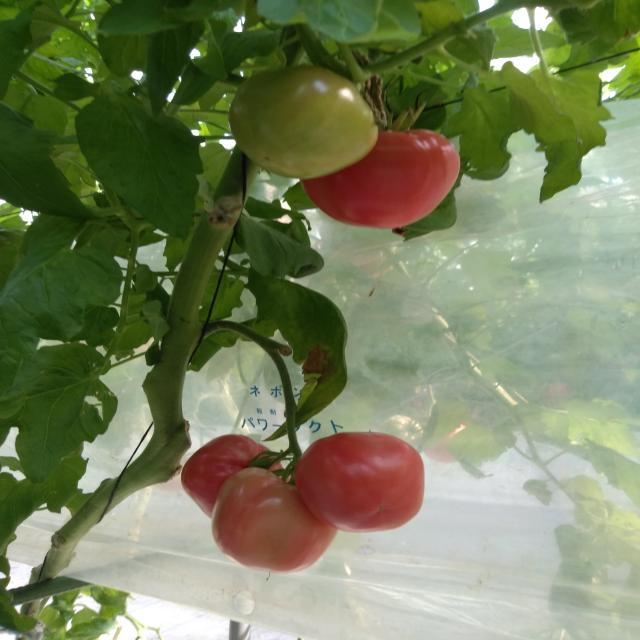n-half-riped: (229, 66, 379, 180), (211, 468, 339, 574)
n-riped: (299, 128, 462, 228), (295, 432, 425, 532), (180, 434, 290, 520)
